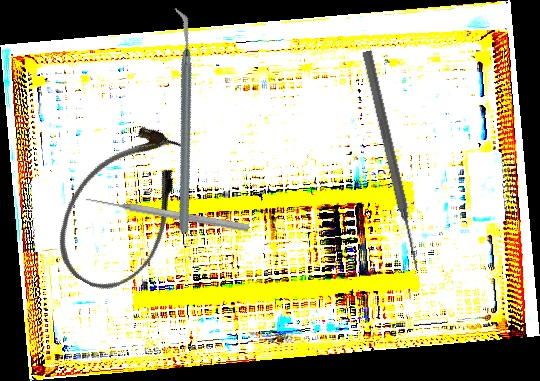Cannula: (37, 109, 211, 307)
Chopper: (92, 4, 271, 235)
Pusher: (359, 49, 424, 271), (85, 193, 250, 234)
